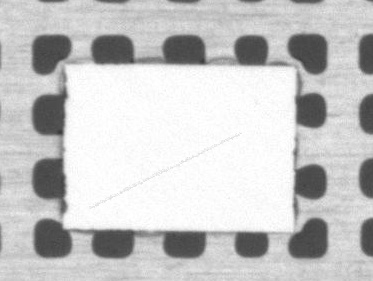DIE_CRACK: (118, 100, 320, 157)
